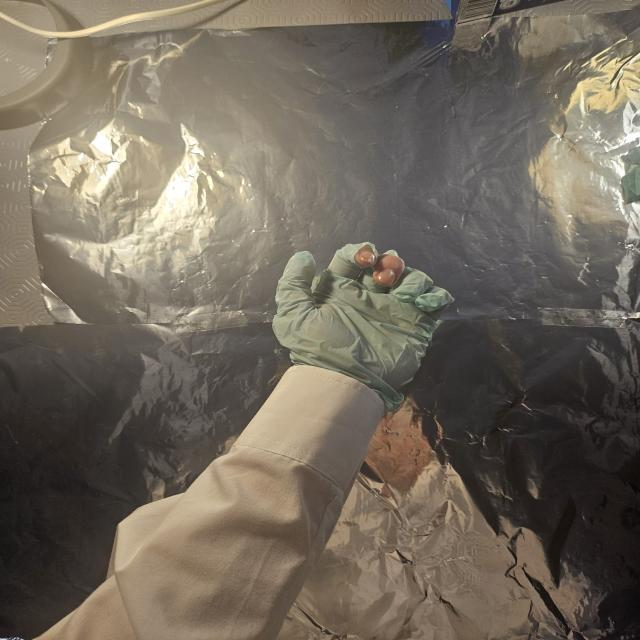gloves_damaged: (269, 237, 458, 416)
